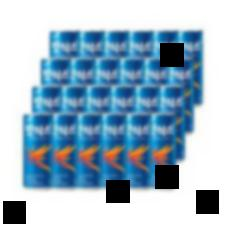hotsix_org: (149, 113, 178, 192), (23, 113, 51, 191), (100, 114, 126, 190), (77, 115, 101, 190), (126, 115, 146, 191), (53, 115, 72, 189)
